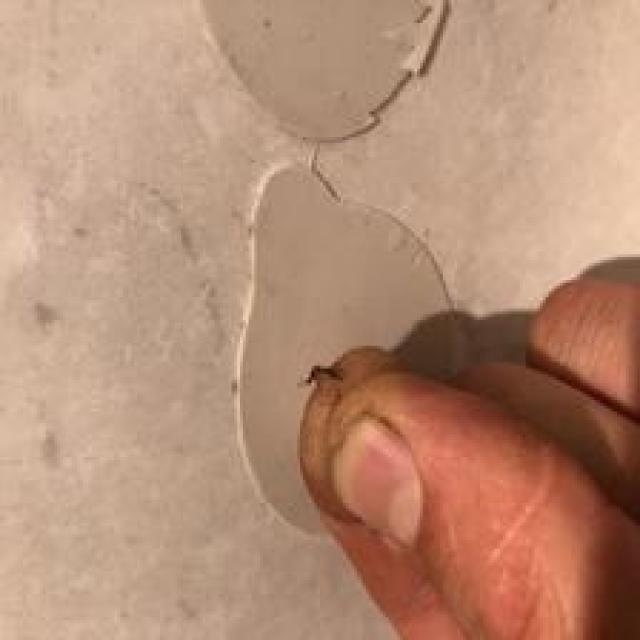Culex: (231, 156, 460, 538)
